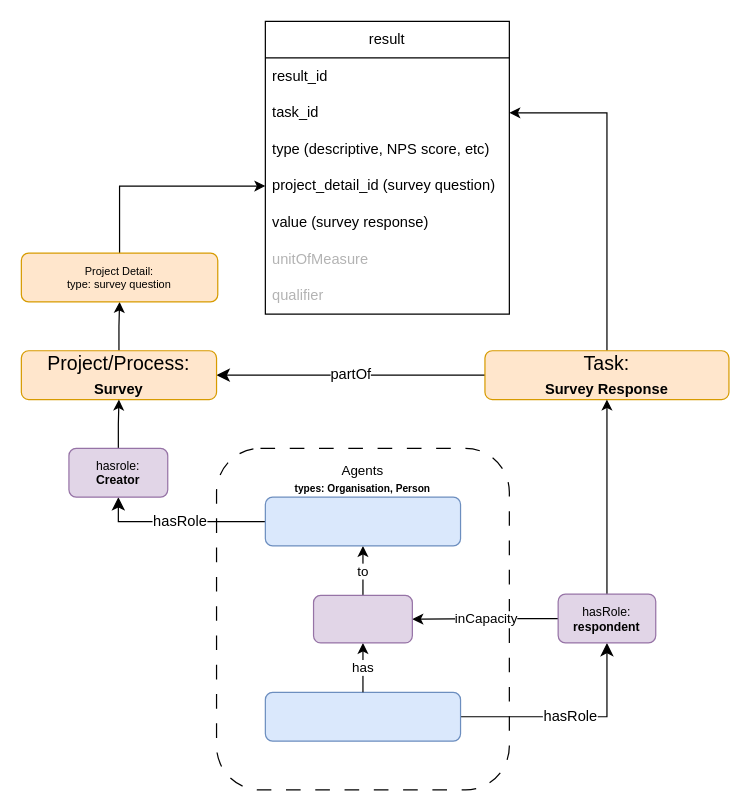
Some shapes in this 750 by 811 pixel diagram are drawn without their labels. The shapes that lost their labels are listed below. From the top down, each one's centre as x and y in pixels, then its label:
[362,521]: Organisation: "Engineers Australia"
[362,618]: hasRelationship: Customer
[362,716]: Person "Joe Blogs"
